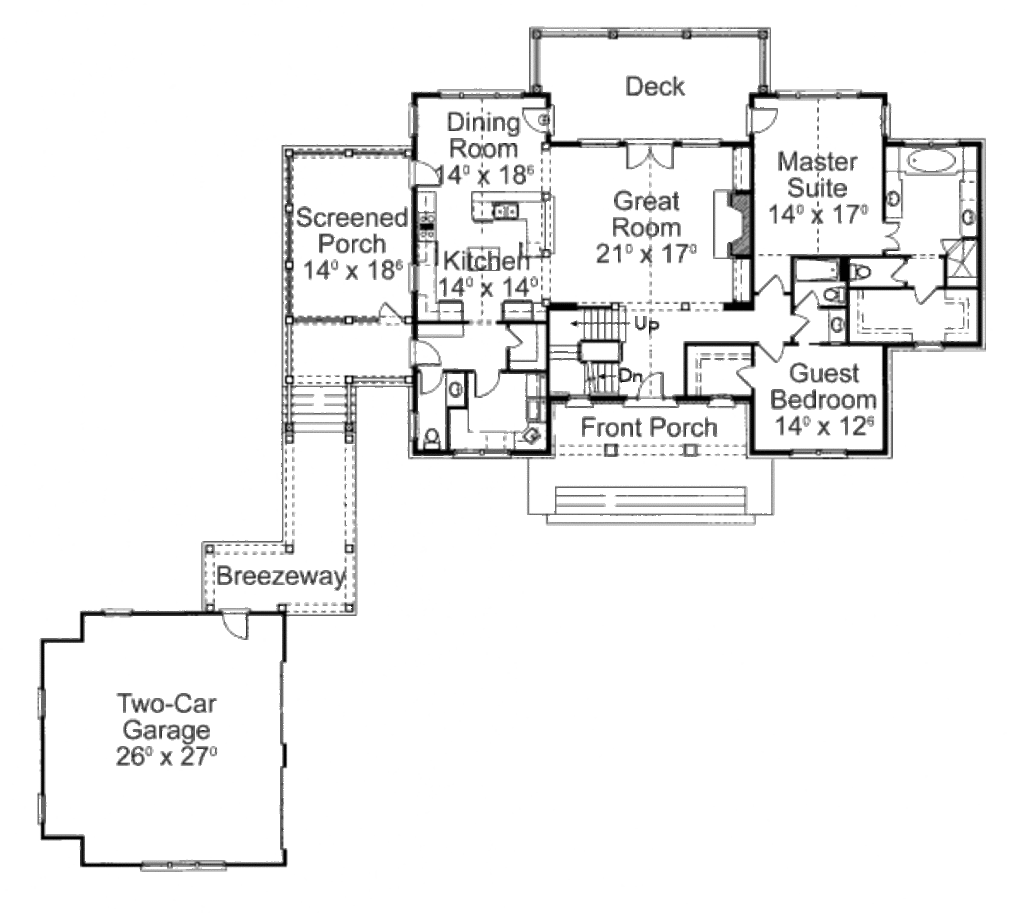door: (215, 598, 268, 644), (618, 143, 682, 173), (630, 366, 674, 405), (742, 99, 785, 136), (402, 157, 449, 188), (466, 366, 511, 398), (519, 106, 560, 137), (756, 270, 788, 309), (759, 335, 794, 368), (370, 301, 406, 333), (730, 356, 759, 394), (790, 281, 819, 316), (406, 336, 442, 364), (881, 218, 909, 254), (416, 363, 444, 395), (915, 281, 944, 305), (890, 254, 909, 288)
kitchen_bar: (471, 190, 567, 256)
large_sink: (413, 418, 453, 454), (850, 264, 880, 291), (820, 288, 842, 308)
small_sink: (956, 188, 981, 236), (882, 178, 908, 222), (447, 370, 471, 409)
stairs: (551, 306, 633, 395)
tub: (882, 144, 974, 175)
twin_sink: (488, 198, 529, 223)
window: (29, 684, 54, 732), (132, 856, 235, 864), (33, 792, 54, 830), (105, 605, 146, 619), (791, 454, 860, 457)
